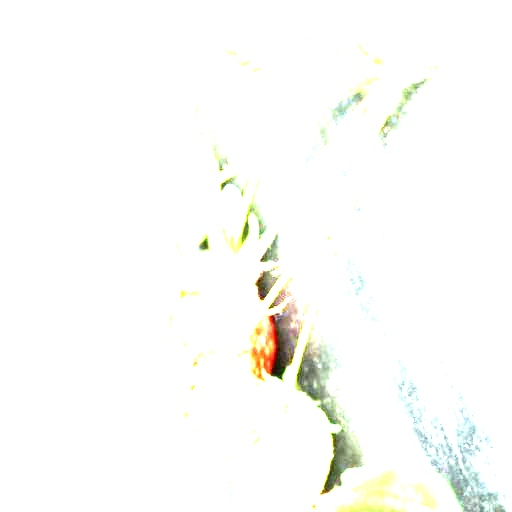Gray Mold: (204, 254, 291, 345)
